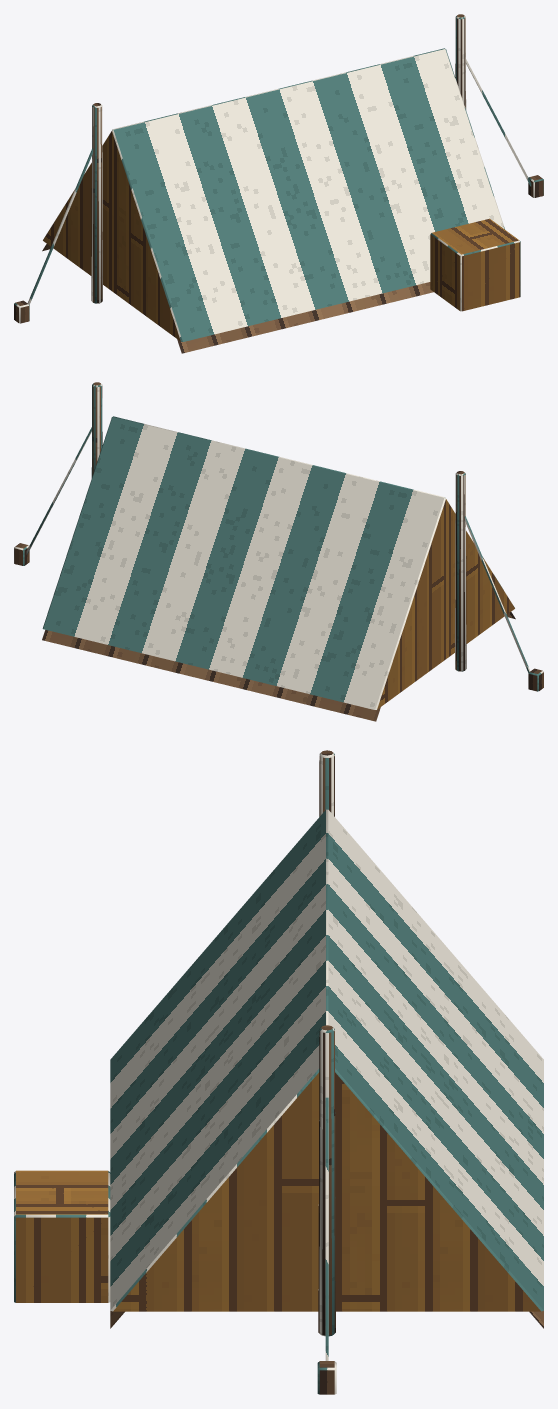
File: spec_tent_0.glb
3 renders of one model, top to bottom at view 1: azimuth 30°, elevation 25°; view 2: azimuth 150°, elevation 25°; view 3: azimuth 270°, elevation 25°, orthographic. The views are drawn at different scales.
Visible parts, largest first — view 1: spec_tent_0; view 2: spec_tent_0; view 3: spec_tent_0.
Boxes of the visible parts, x1,y1,x2,y2 form: spec_tent_0: (14,14,543,353); spec_tent_0: (14,382,543,721); spec_tent_0: (14,750,543,1394).
Size of the model in its own units: 3.9 by 1.43 by 2.2.
Materials: 4 (4 with a texture image).
